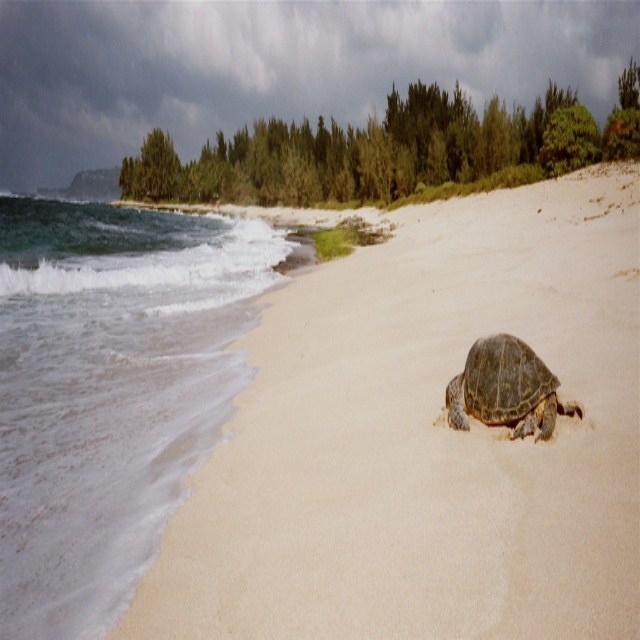Sea turtle: (444, 328, 562, 448)
